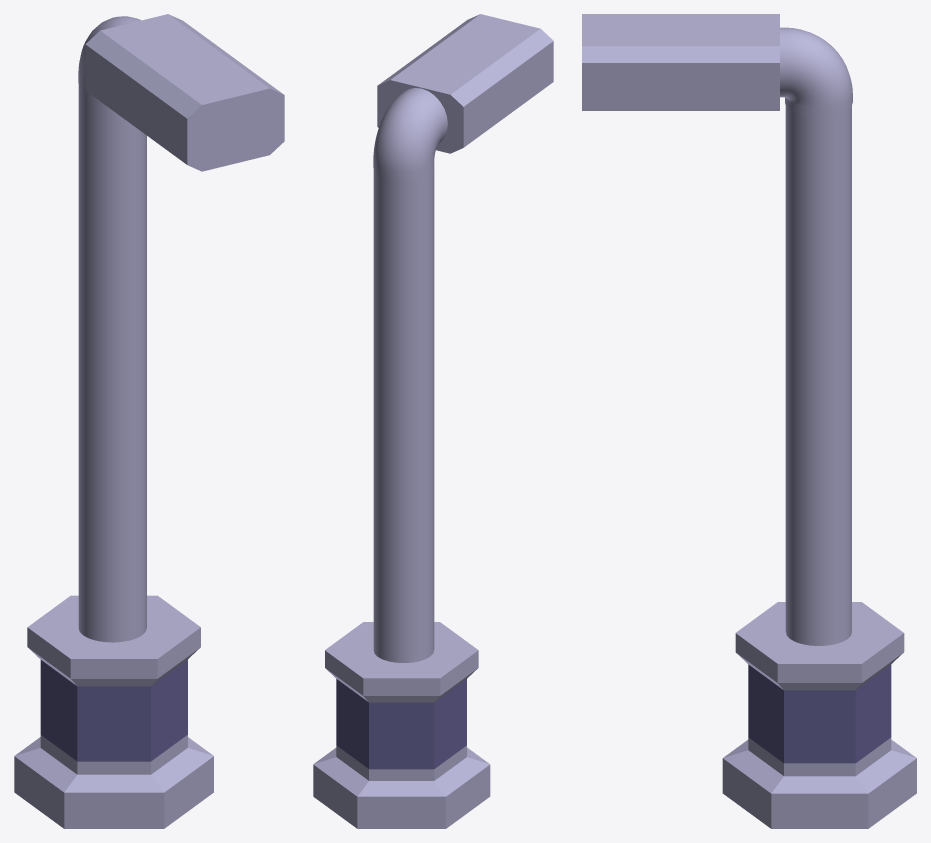
File: City-Light.fbx
The picture shows the model from 3 angles, left to right: view 1: azimuth 30°, elevation 25°; view 2: azimuth 150°, elevation 25°; view 3: azimuth 270°, elevation 25°; orthographic projection. The views are drawn at different scales.
Visible parts, largest first — view 1: mergedBlocks; view 2: mergedBlocks; view 3: mergedBlocks.
Part boxes in pixels (x1,y1,x2,y2): mergedBlocks: (14,14,284,828); mergedBlocks: (313,14,553,828); mergedBlocks: (582,14,916,828).
Size of the model in its own units: 3.8 by 19.02 by 7.57.
